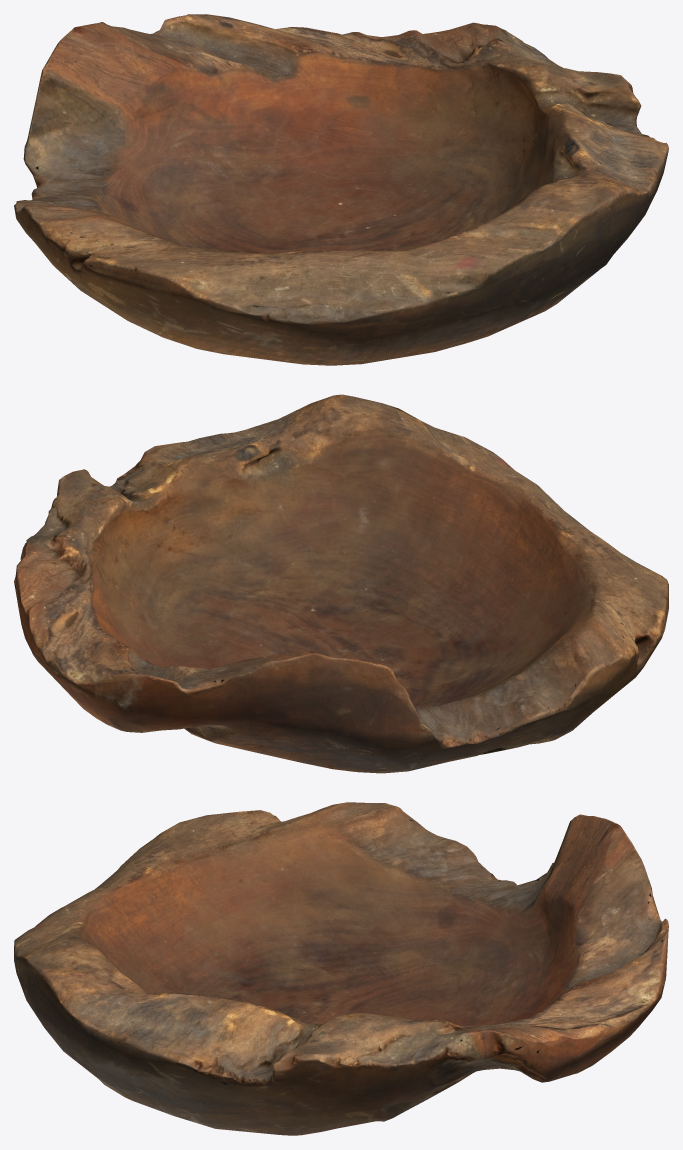
File: wooden_bowl_01_1k.gltf
The picture shows the model from 3 angles, top to bottom: view 1: azimuth 30°, elevation 25°; view 2: azimuth 150°, elevation 25°; view 3: azimuth 270°, elevation 25°; orthographic projection. The views are drawn at different scales.
Visible parts, largest first — view 1: wooden_bowl_01; view 2: wooden_bowl_01; view 3: wooden_bowl_01.
Boxes of the visible parts, bbox=[...] form: wooden_bowl_01: bbox=[14, 14, 668, 365]; wooden_bowl_01: bbox=[14, 394, 668, 773]; wooden_bowl_01: bbox=[14, 802, 668, 1135].
Bounding box in the file's own units: 0.313 × 0.0935 × 0.3091.
1 material, 1 textured.
